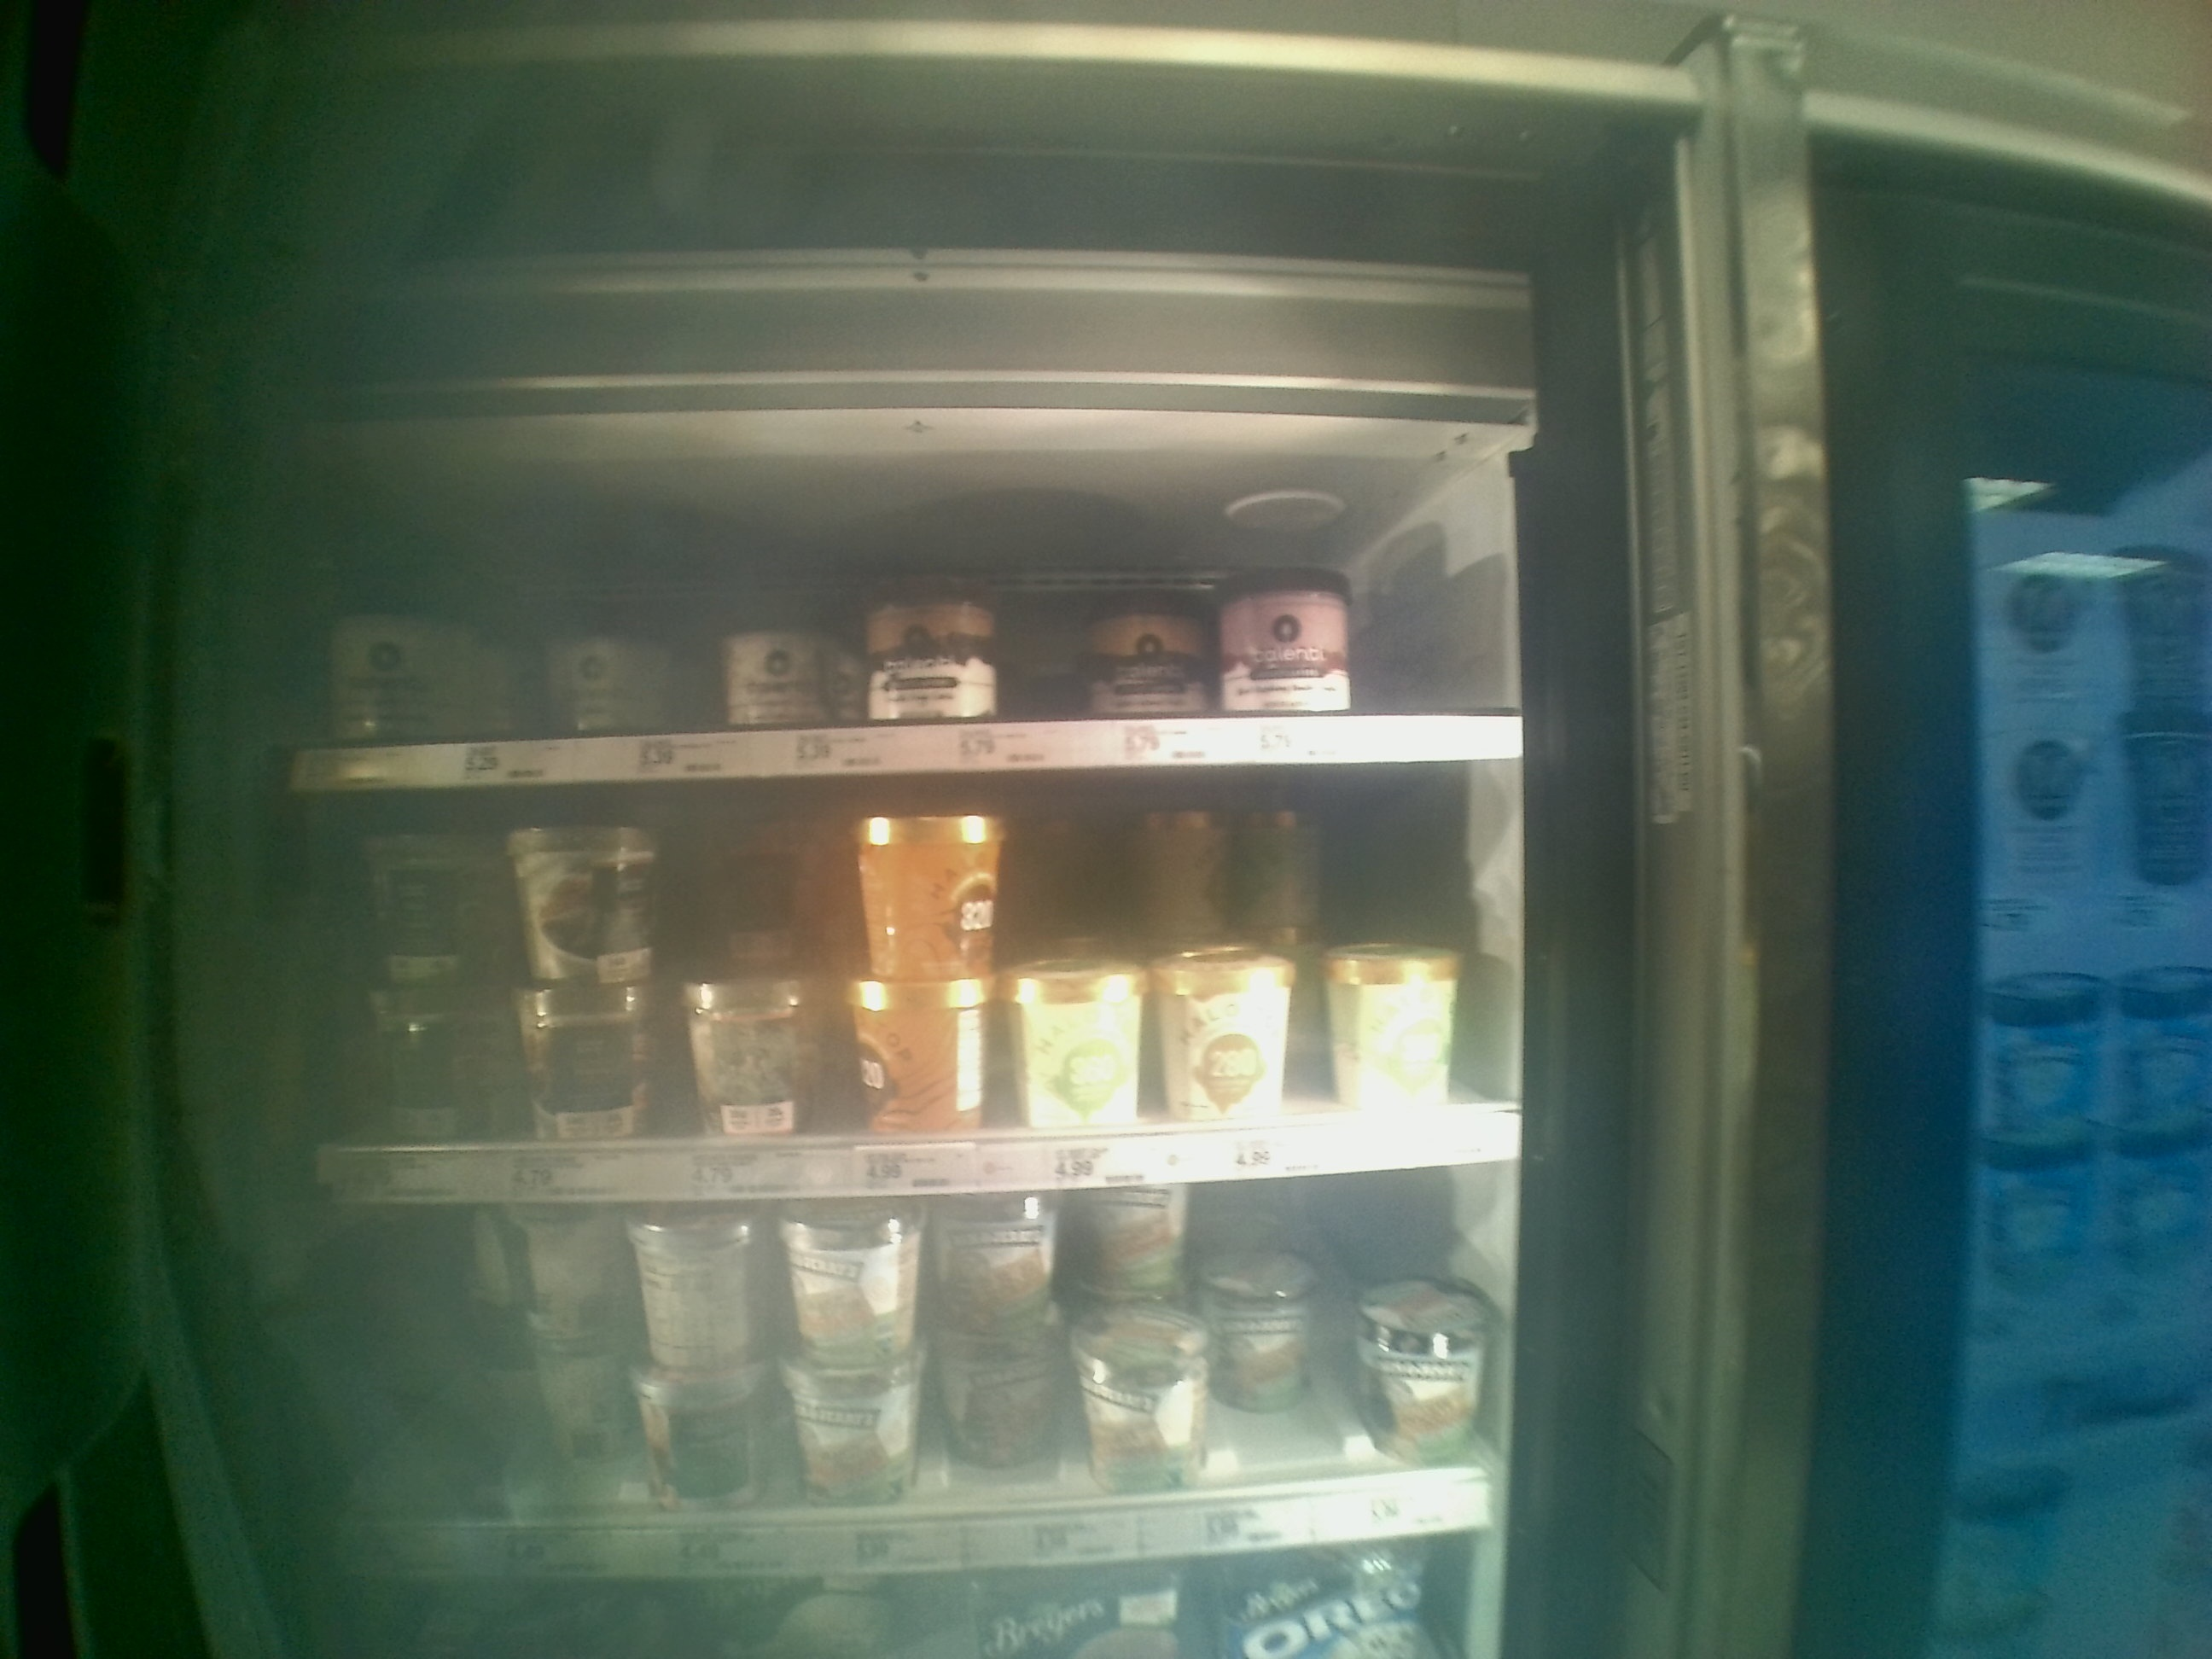shelf: (315, 1154, 1519, 1588), (275, 777, 1526, 1185), (280, 443, 1533, 772)
